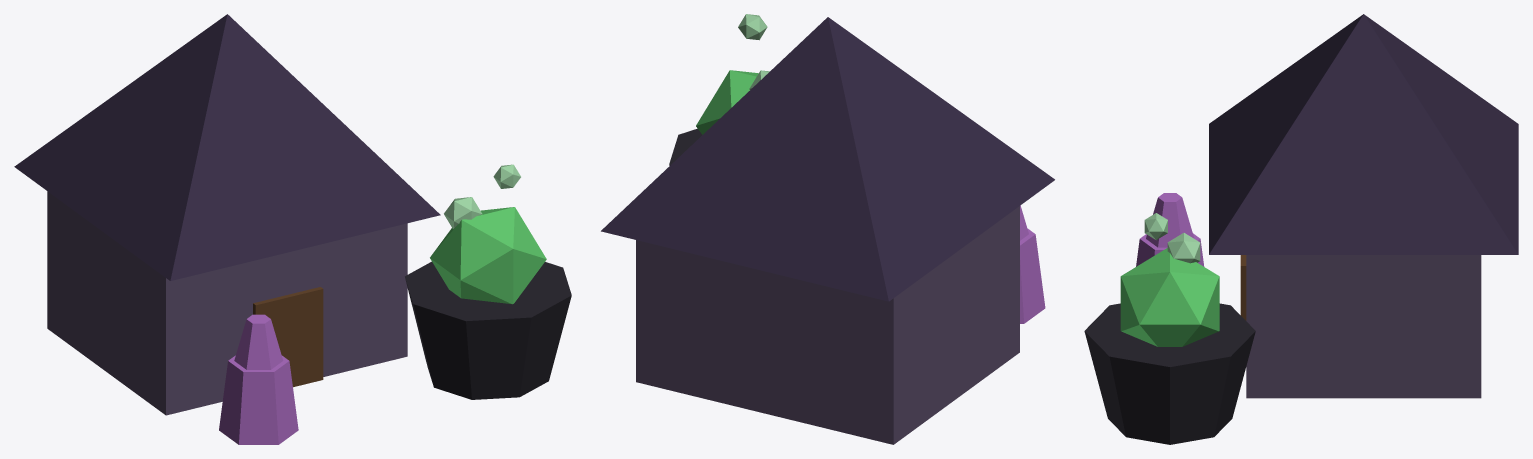
File: alchemist.glb
3 renders of one model, left to right at view 1: azimuth 30°, elevation 25°; view 2: azimuth 150°, elevation 25°; view 3: azimuth 270°, elevation 25°, orthographic. The views are drawn at different scales.
Parts seen in each view (by area): view 1: alchemist; view 2: alchemist; view 3: alchemist.
Part boxes in pixels (x1=…): alchemist: x1=14, y1=14, x2=571, y2=444; alchemist: x1=601, y1=14, x2=1054, y2=444; alchemist: x1=1084, y1=14, x2=1518, y2=444.
Size of the model in its own units: 0.309 by 0.26 by 0.314.
